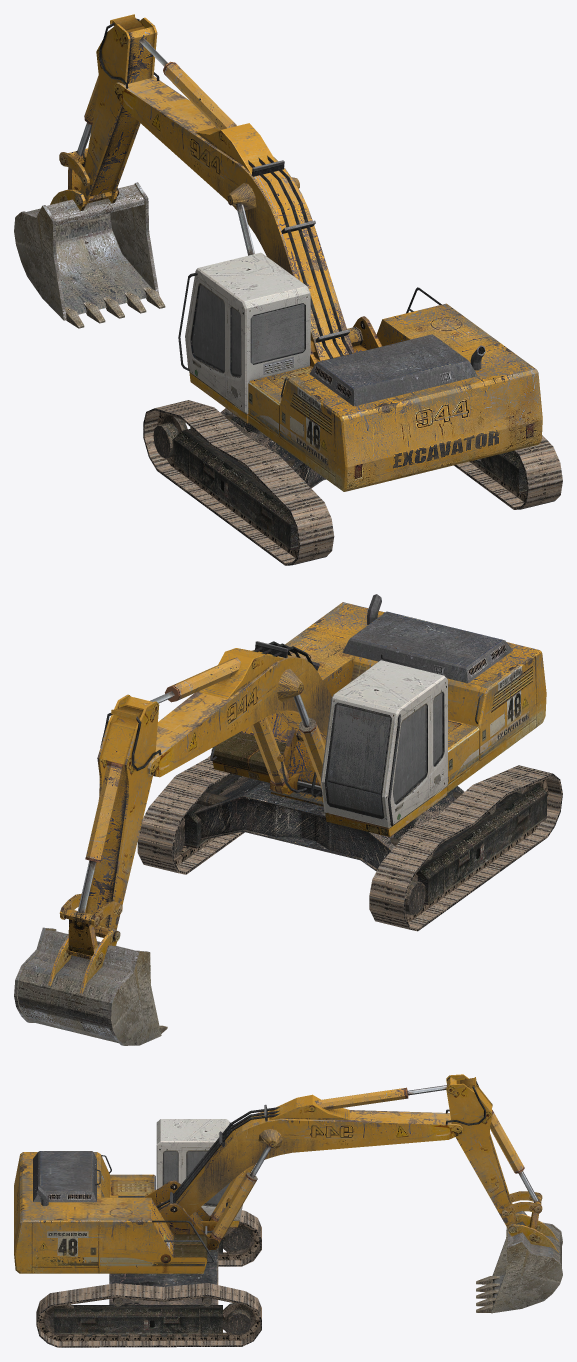
3 views of the same model, one above another, from view 1: azimuth 30°, elevation 25°; view 2: azimuth 150°, elevation 25°; view 3: azimuth 270°, elevation 25° (orthographic). The views are drawn at different scales.
Visible parts, largest first — view 1: Object001, excavator_001; view 2: Object001, excavator_001; view 3: Object001, excavator_001.
Part boxes in pixels (<box>): Object001: <box>14,14,562,565</box>; excavator_001: <box>192,284,305,376</box>; Object001: <box>14,594,562,1045</box>; excavator_001: <box>325,692,442,818</box>; Object001: <box>14,1074,562,1347</box>; excavator_001: <box>163,1151,230,1205</box>.
Bounding box in the file's own units: 428 × 477 × 1075.
Materials: 2 (2 with a texture image).
